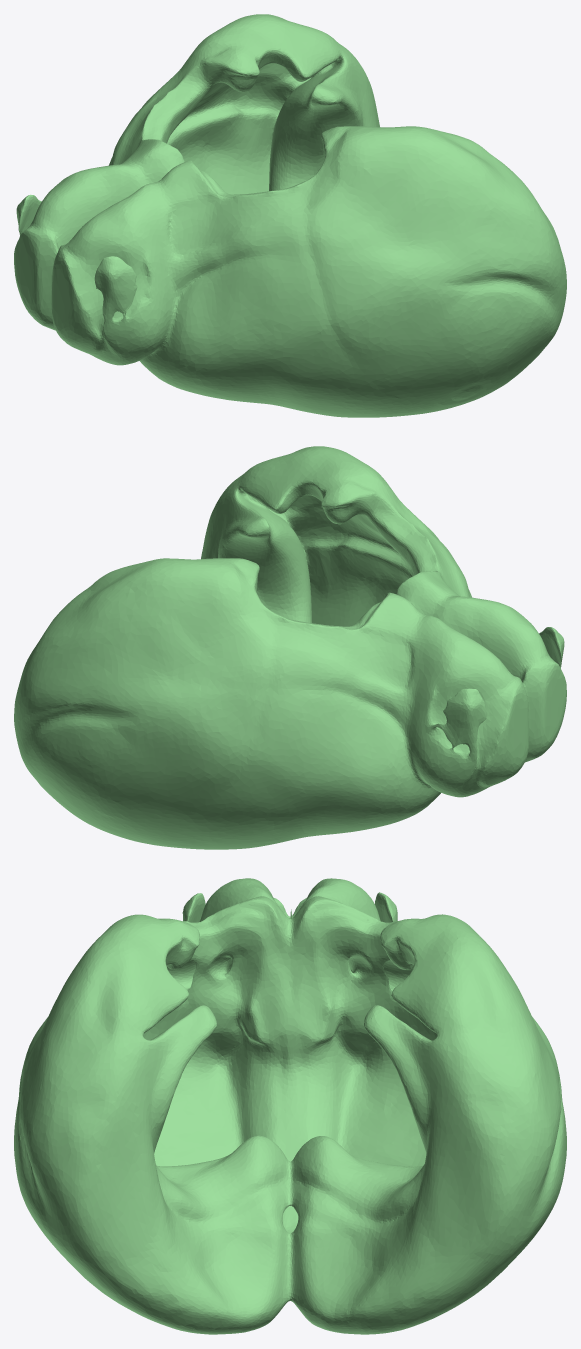
The picture shows the model from 3 angles, top to bottom: view 1: azimuth 30°, elevation 25°; view 2: azimuth 150°, elevation 25°; view 3: azimuth 270°, elevation 25°; orthographic projection. The views are drawn at different scales.
Parts seen in each view (by area): view 1: 695.obj; view 2: 695.obj; view 3: 695.obj.
Part boxes in pixels (x1,y1,x2,y2): 695.obj: [14, 14, 566, 417]; 695.obj: [14, 446, 566, 849]; 695.obj: [14, 878, 566, 1334].
Size of the model in its own units: 10426 by 7403 by 10377.
